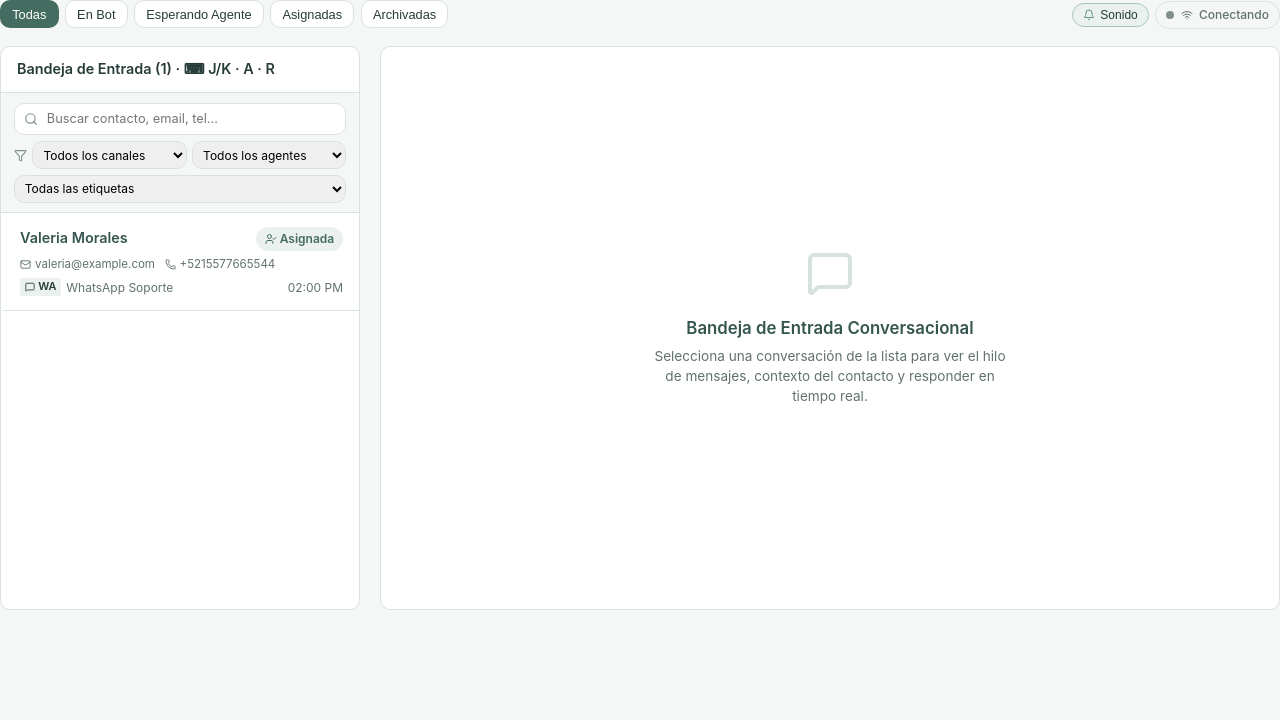
Test: WhatsApp 24-Hour Service Window in ConversationsView › renders expired banner and blocks composer when WhatsApp 24h window is expired
Click the element with test id "conversation-item".
click(180, 262)  # box [1,213,359,311]
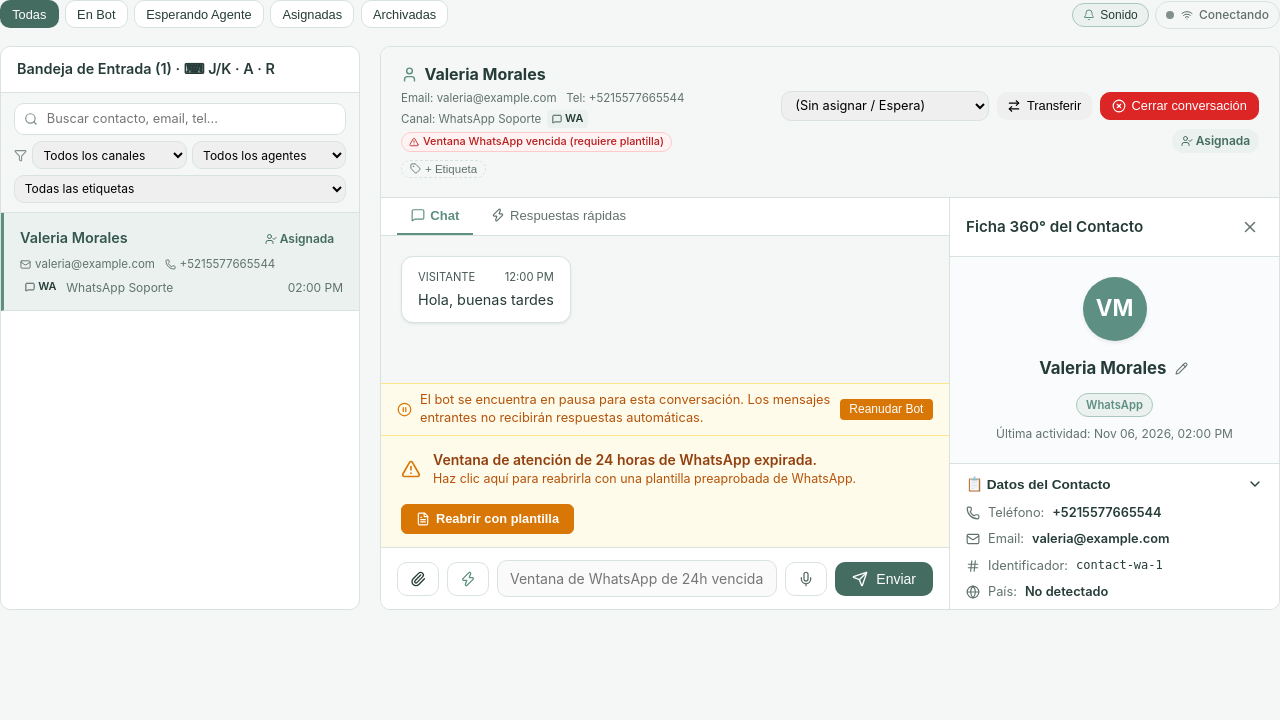
Expected: the element with test id "whatsapp-window-expired-badge" is shown, [401,132,672,152]
Expected: the element with test id "whatsapp-24h-expired-banner" is shown, [381,435,949,547]
Expected: the text "Ventana de atención de 24 horas de WhatsApp expirada." is shown, [433,450,856,470]
